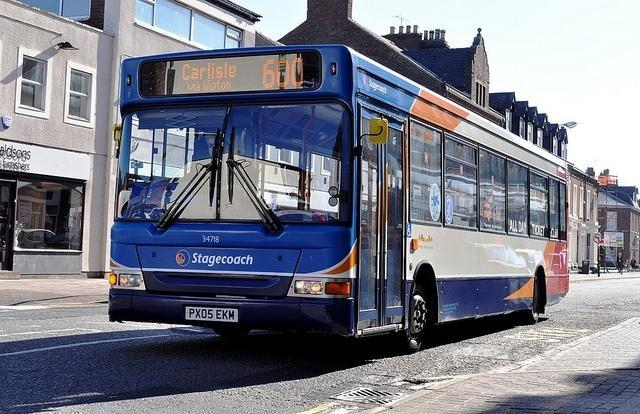bus: (109, 44, 571, 352)
